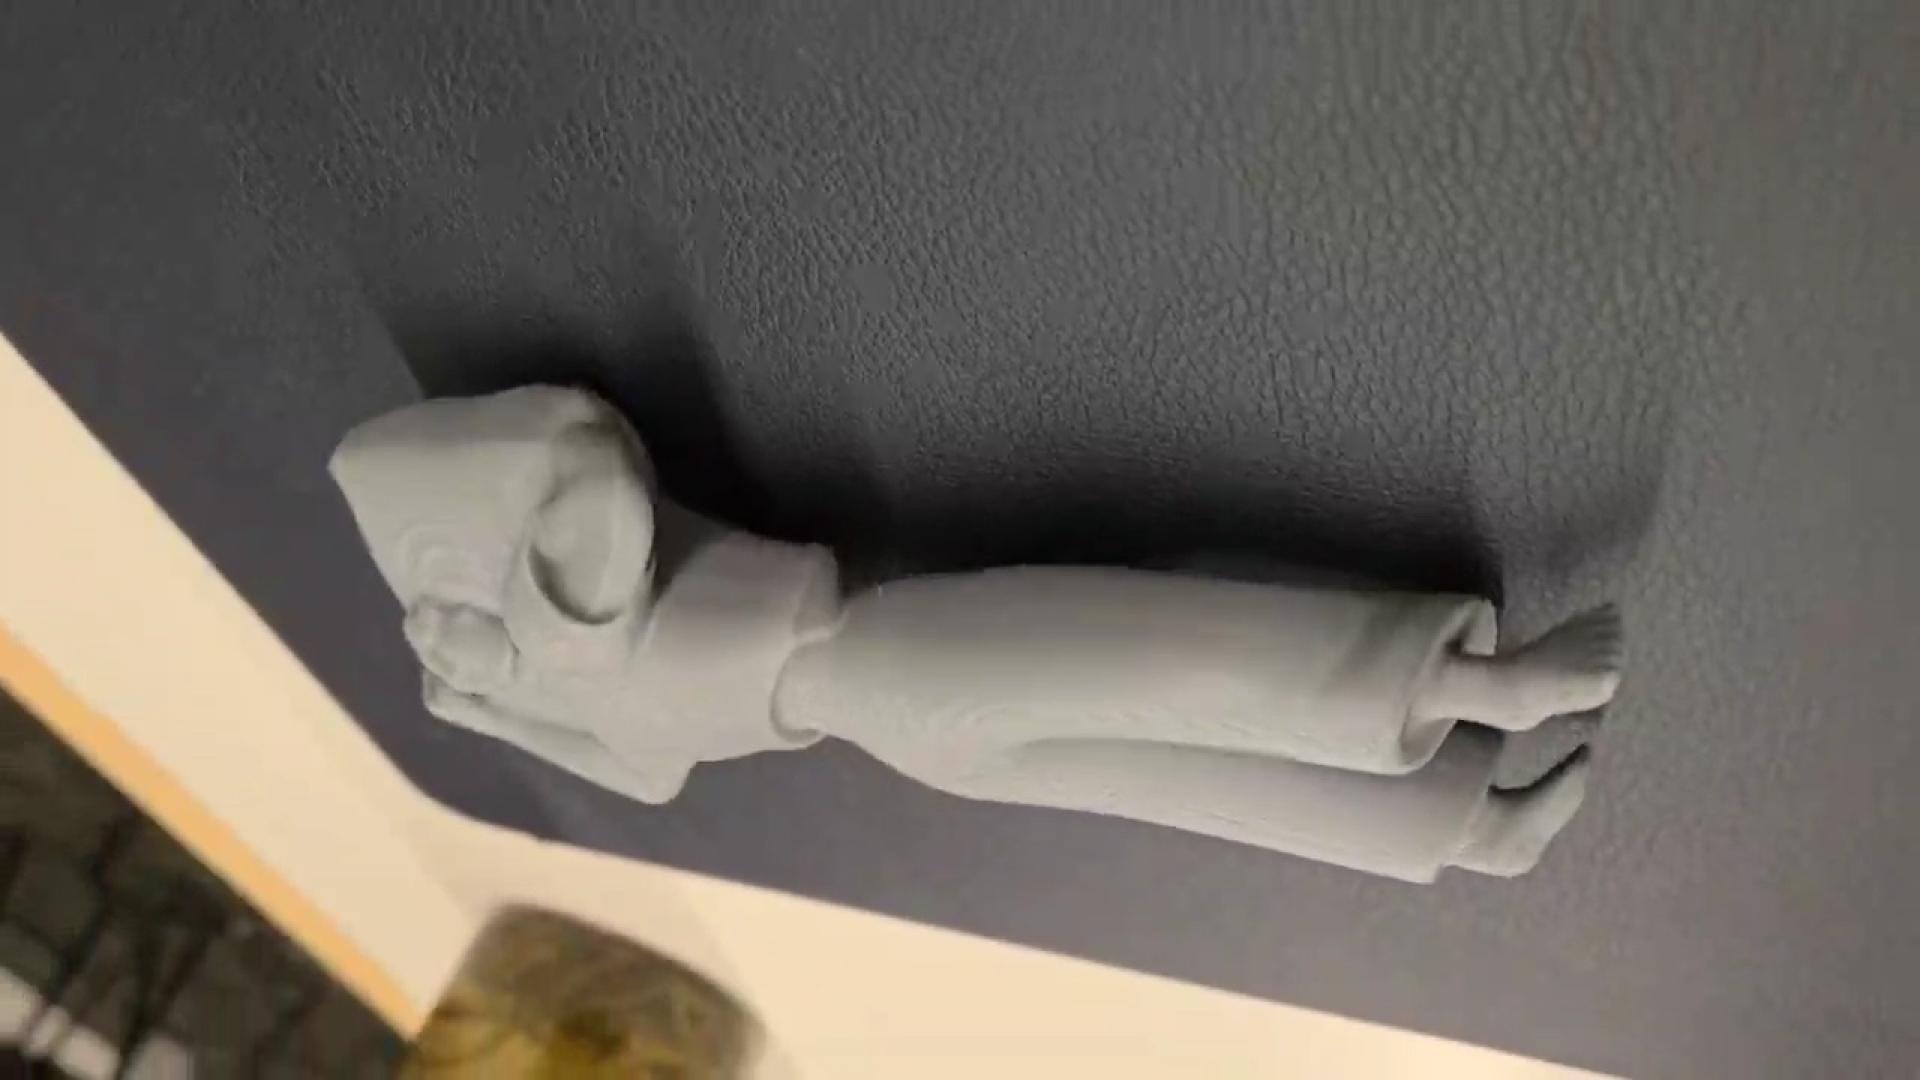Bad-style: (330, 376, 1635, 901)
